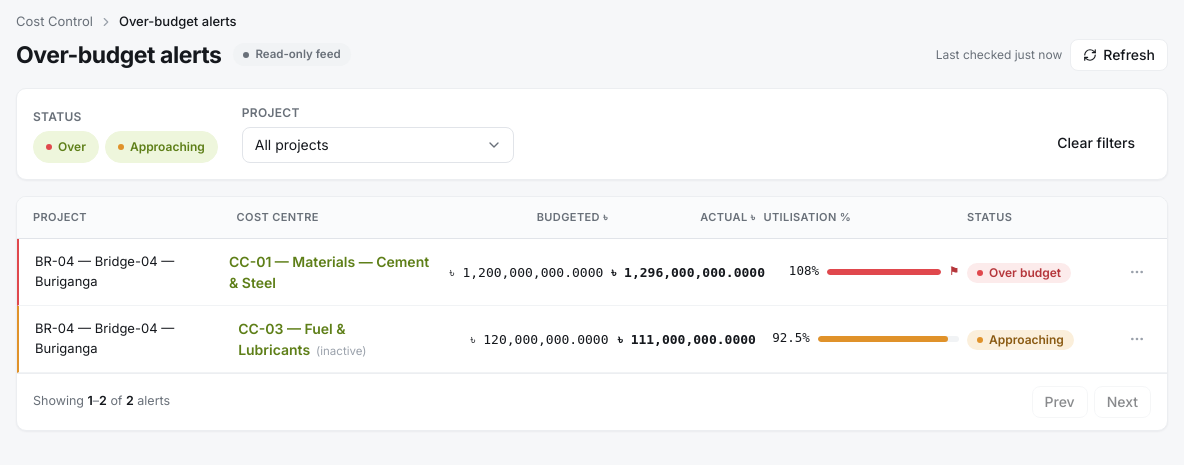
Test: OverBudgetAlertsScreen — PM scope + 403 (FR-CC-016) › renders the project-scope denied view when a project filter is forbidden
The image size is (1184, 465).
Step 1. Select "BR-04 — Bridge-04 — Buriganga" in the dropdown with test id "alerts-project" → {"x": 378, "y": 145}, box [242, 127, 514, 163]
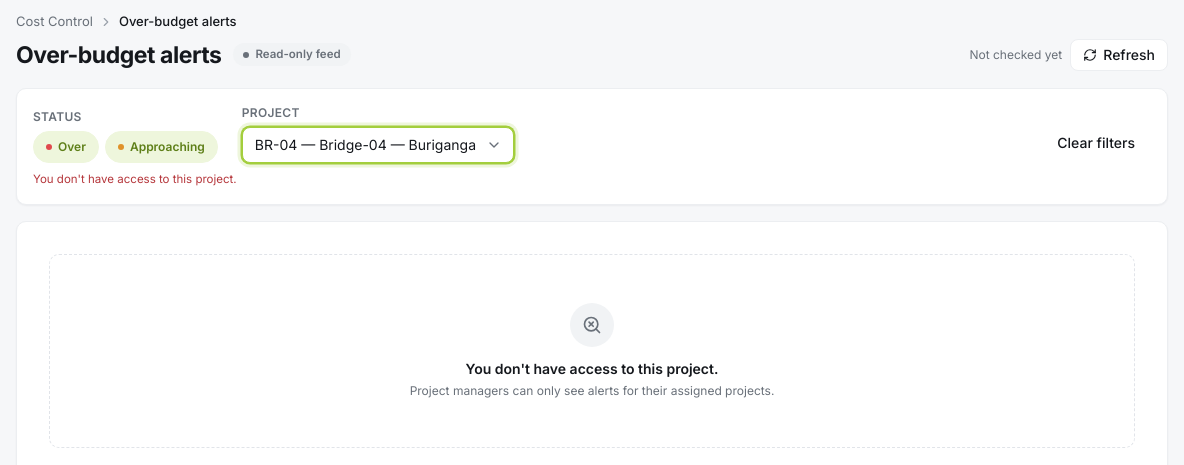
Result: the element with test id "alerts-forbidden" shows "don't have access to this project" at [466, 360, 718, 377]
